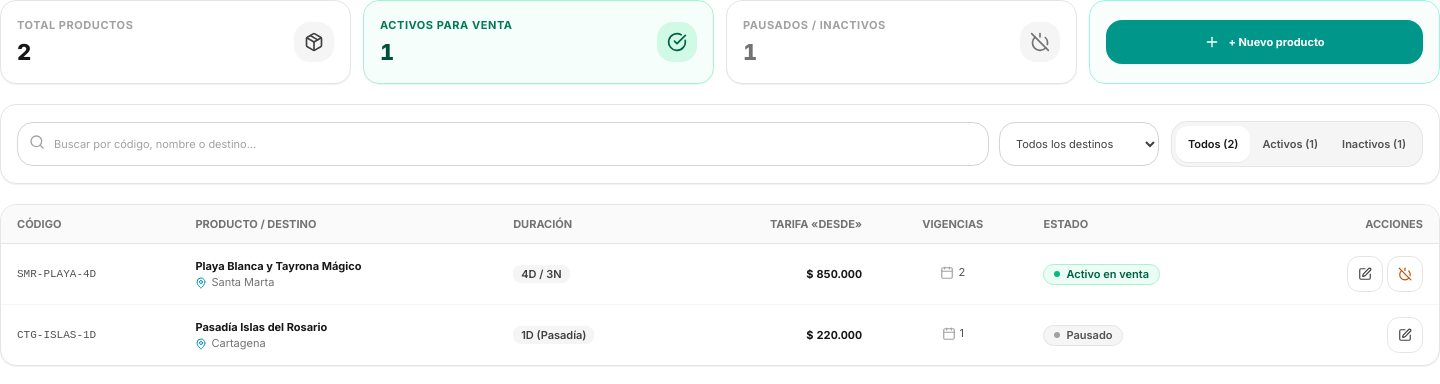
it: TablaGestionCatalogo (T-031) › filtra por texto de búsqueda
The image size is (1440, 384).
Type "Tayrona" into the field with test id "buscador-gestion-catalogo" at (503, 144), box [17,122,989,166]
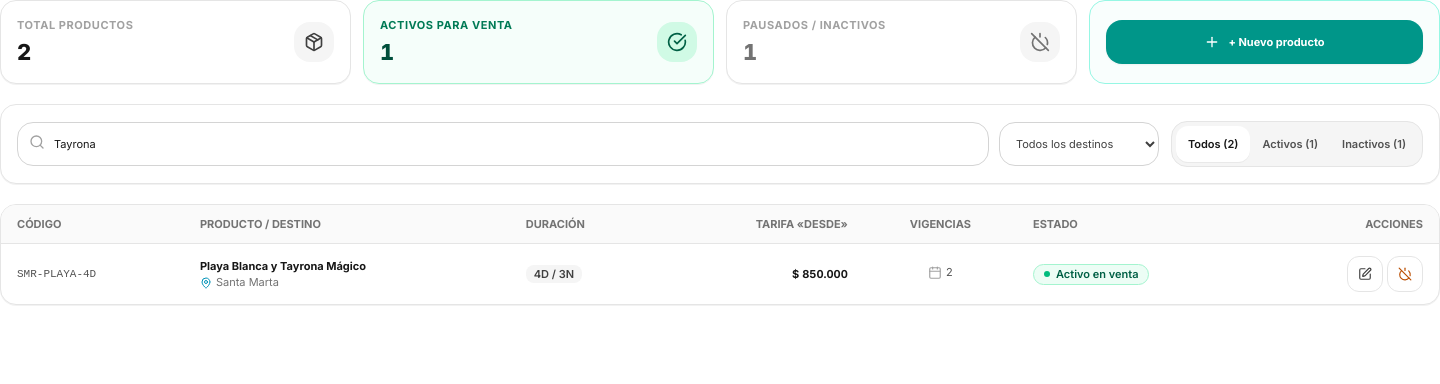
expect the text "Playa Blanca y Tayrona Mágico" is shown: met, box [200,259,366,273]
expect the text "Pasadía Islas del Rosario" is gone: met
